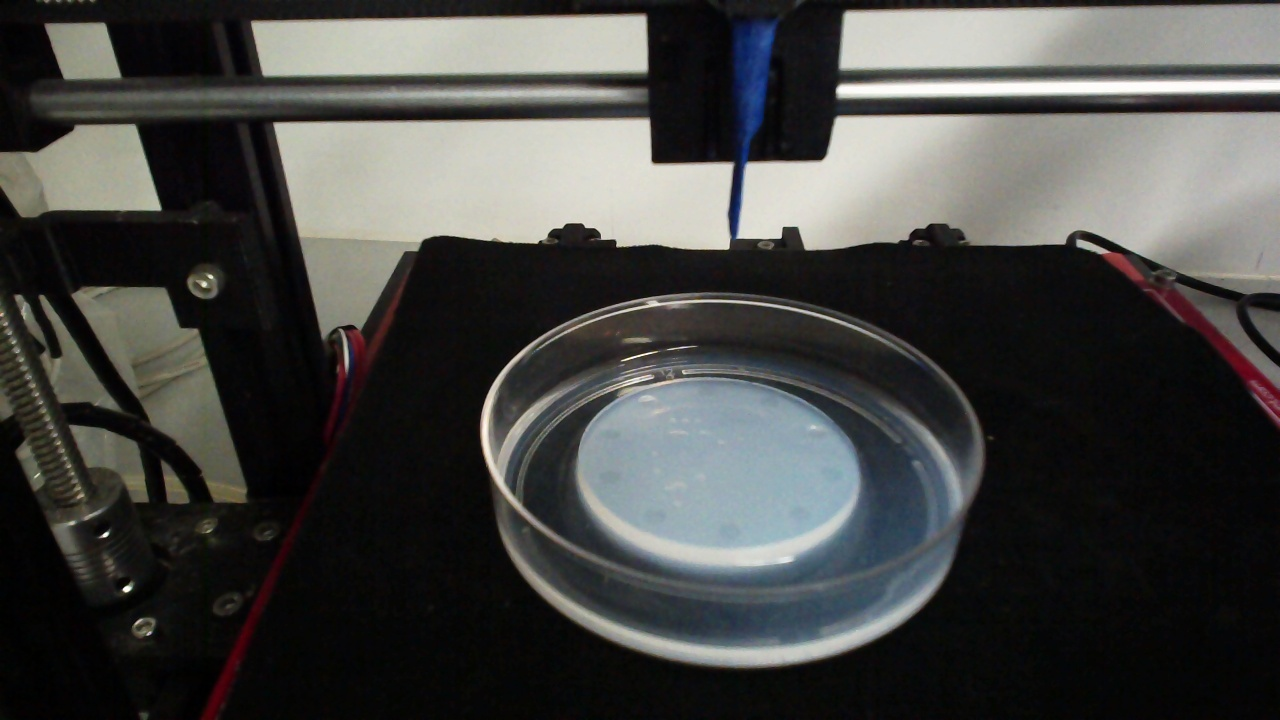groove: (639, 507, 666, 526), (695, 382, 722, 400), (789, 505, 812, 526), (597, 467, 622, 485), (820, 465, 845, 483), (804, 424, 829, 442), (718, 522, 741, 541), (597, 426, 623, 442), (759, 392, 780, 410), (635, 394, 658, 408)
needle: (727, 22, 775, 241)
